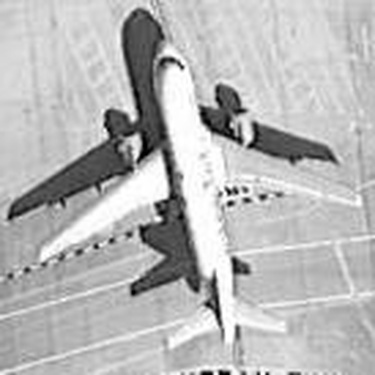airplane: (19, 29, 370, 358)
